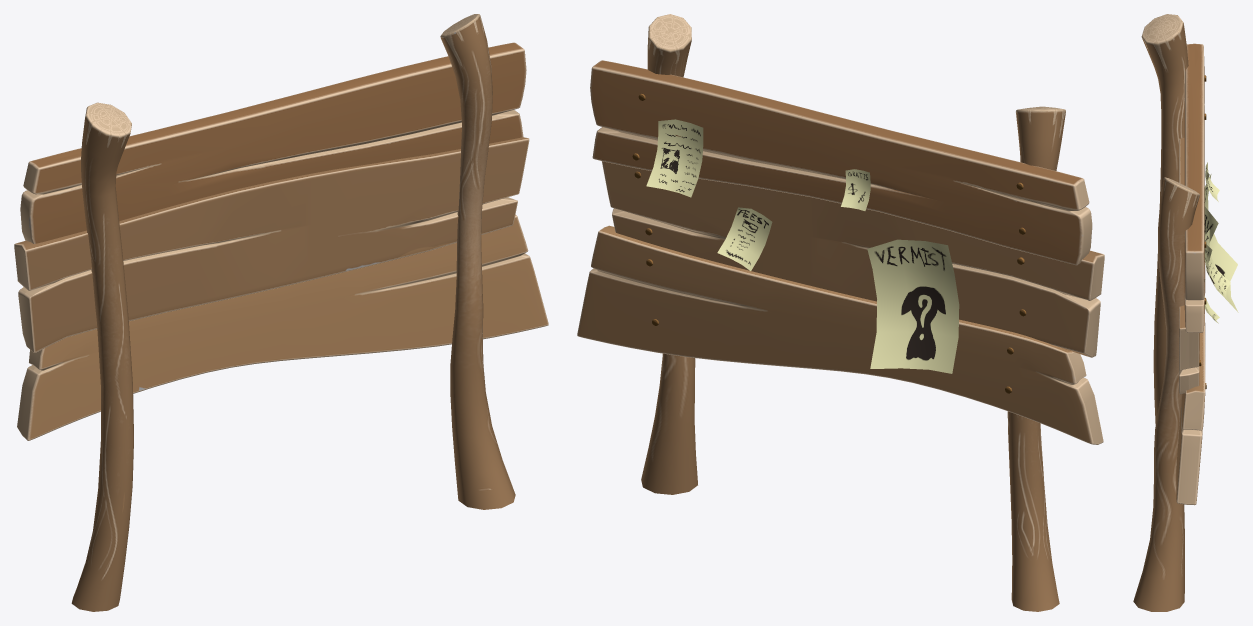
The model's file is message_board.glb.
The picture shows the model from 3 angles, left to right: view 1: azimuth 30°, elevation 25°; view 2: azimuth 150°, elevation 25°; view 3: azimuth 270°, elevation 25°; orthographic projection. The views are drawn at different scales.
Visible parts, largest first — view 1: Planks, Poles; view 2: Planks, Poles, pPlane2, pPlane1, pPlane3, pPlane4; view 3: Poles, Planks, pPlane2, pPlane1, pPlane4.
Boxes of the visible parts, box(x1,y1,x2,y2) form: Planks: box(14, 42, 548, 440); Poles: box(71, 14, 515, 611); Planks: box(577, 60, 1104, 444); Poles: box(641, 14, 1065, 611); pPlane2: box(867, 239, 959, 373); pPlane1: box(646, 119, 703, 197); pPlane3: box(717, 207, 772, 270); pPlane4: box(841, 169, 870, 210); Poles: box(1133, 14, 1199, 611); Planks: box(1176, 43, 1205, 505); pPlane2: box(1204, 174, 1238, 312); pPlane1: box(1204, 229, 1230, 301); pPlane4: box(1205, 162, 1219, 201).
Bounding box in the file's own units: 2.95 × 2.67 × 0.5841.
Materials: 3 (3 with a texture image).
